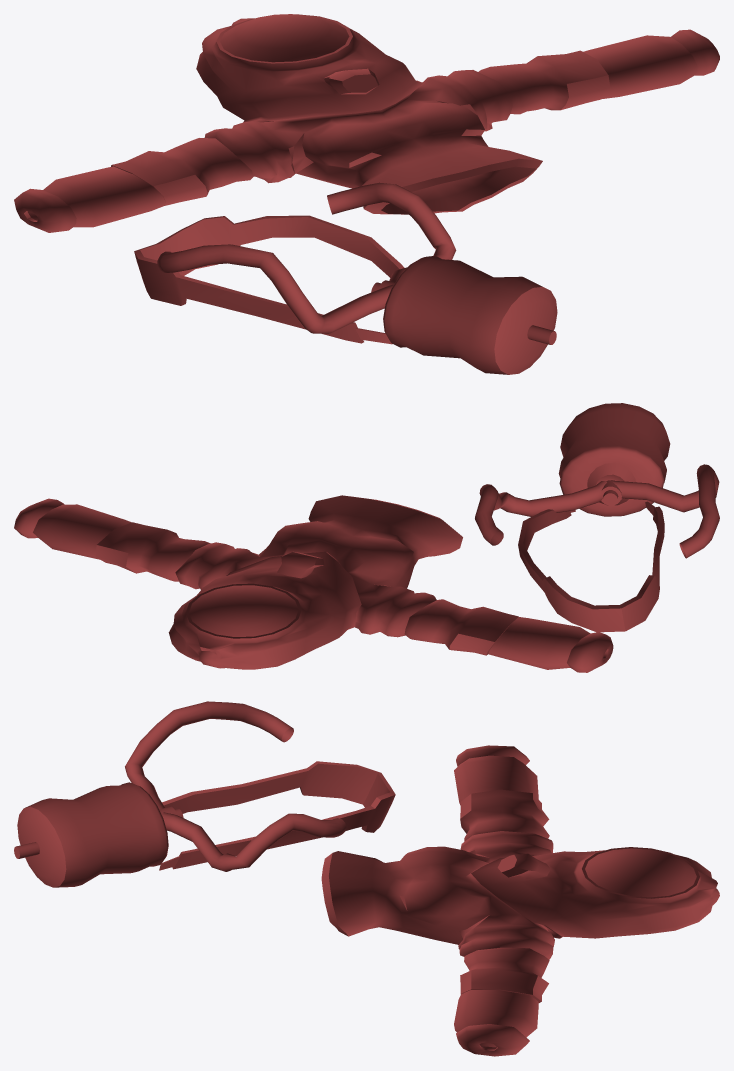
File: W_Antibelok_ON.FBX
3 views of the same model, one above another, from view 1: azimuth 30°, elevation 25°; view 2: azimuth 150°, elevation 25°; view 3: azimuth 270°, elevation 25° (orthographic). The views are drawn at different scales.
Visible parts, largest first — view 1: VOL4; view 2: VOL4; view 3: VOL4.
Part boxes in pixels (<box>): VOL4: <box>14,14,719,374</box>; VOL4: <box>14,403,719,672</box>; VOL4: <box>14,701,719,1056</box>.
Size of the model in its own units: 81.61 by 13.3 by 82.24.
